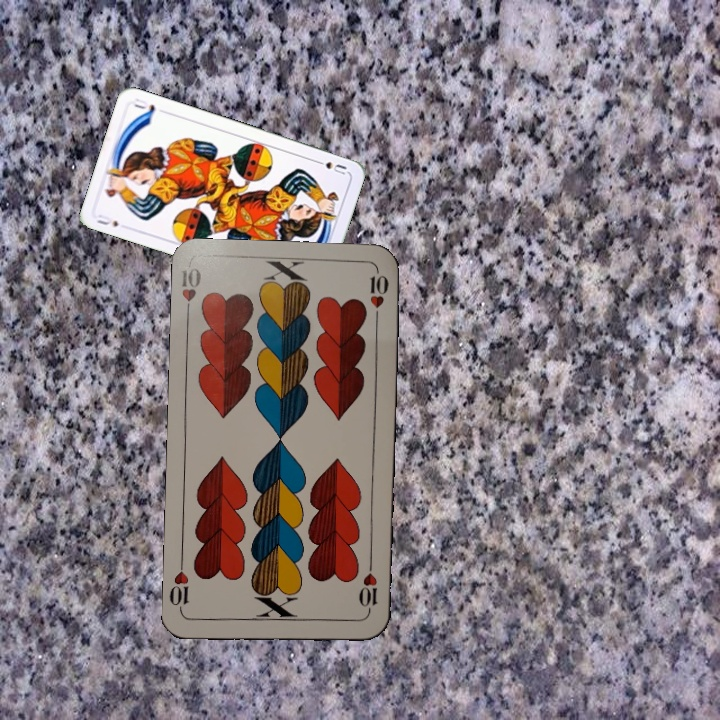H10: (178, 264, 204, 322), (355, 558, 380, 617)
SU: (310, 156, 349, 177), (93, 210, 121, 229)
